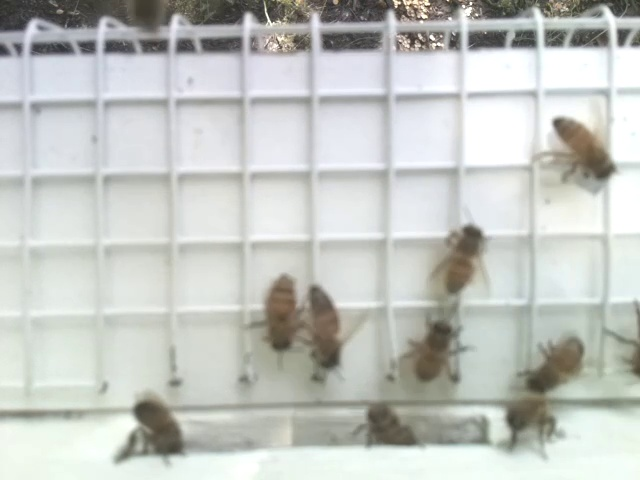bee: (519, 100, 636, 191), (125, 391, 217, 471), (401, 298, 476, 394), (518, 319, 599, 399), (433, 207, 494, 308), (497, 383, 573, 463), (305, 282, 366, 380), (249, 267, 311, 356), (355, 397, 428, 460)
